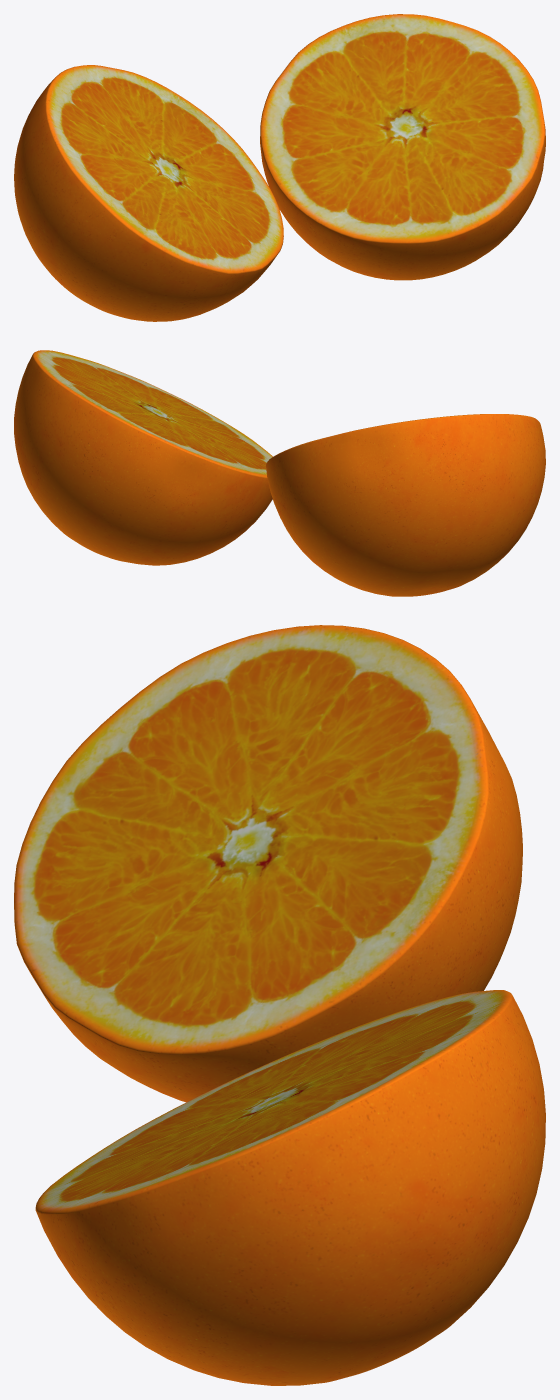
The model's file is cutOrange.obj.
The picture shows the model from 3 angles, top to bottom: view 1: azimuth 30°, elevation 25°; view 2: azimuth 150°, elevation 25°; view 3: azimuth 270°, elevation 25°; orthographic projection. The views are drawn at different scales.
Visible parts, largest first — view 1: b_orange_085.001, b_orange_085; view 2: b_orange_085, b_orange_085.001; view 3: b_orange_085, b_orange_085.001.
Part boxes in pixels (left/top/right/bottom): b_orange_085.001: left=260, top=14, right=545, bottom=280; b_orange_085: left=14, top=65, right=283, bottom=321; b_orange_085: left=266, top=414, right=545, bottom=596; b_orange_085.001: left=14, top=350, right=272, bottom=565; b_orange_085: left=14, top=625, right=522, bottom=1102; b_orange_085.001: left=35, top=990, right=545, bottom=1385.
Size of the model in its own units: 15.65 by 7.14 by 7.88.
